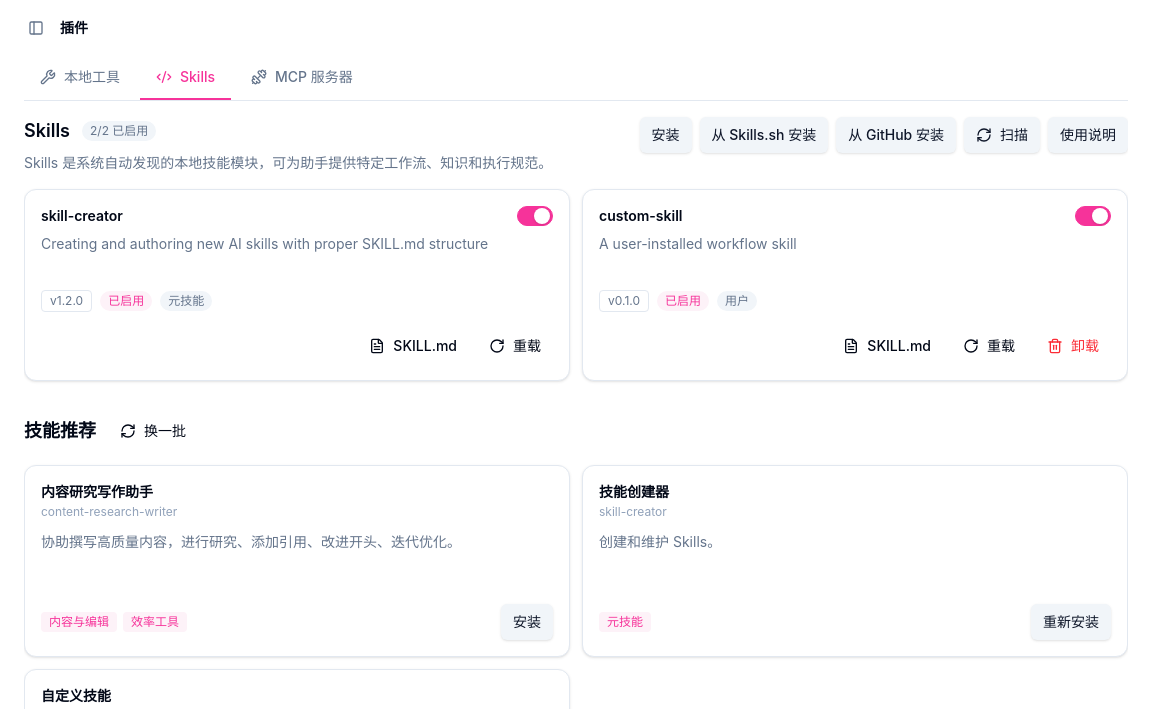
Test: PluginsPage › keeps skill and MCP actions in the section header instead of the page header
Expected: the heading "skill-creator" is shown, [41, 207, 123, 224]
Expected: the number of buttons "安装" is 1, [640, 117, 692, 153]
Click the tab "MCP 服务器": point(302, 78) [235, 56, 369, 100]
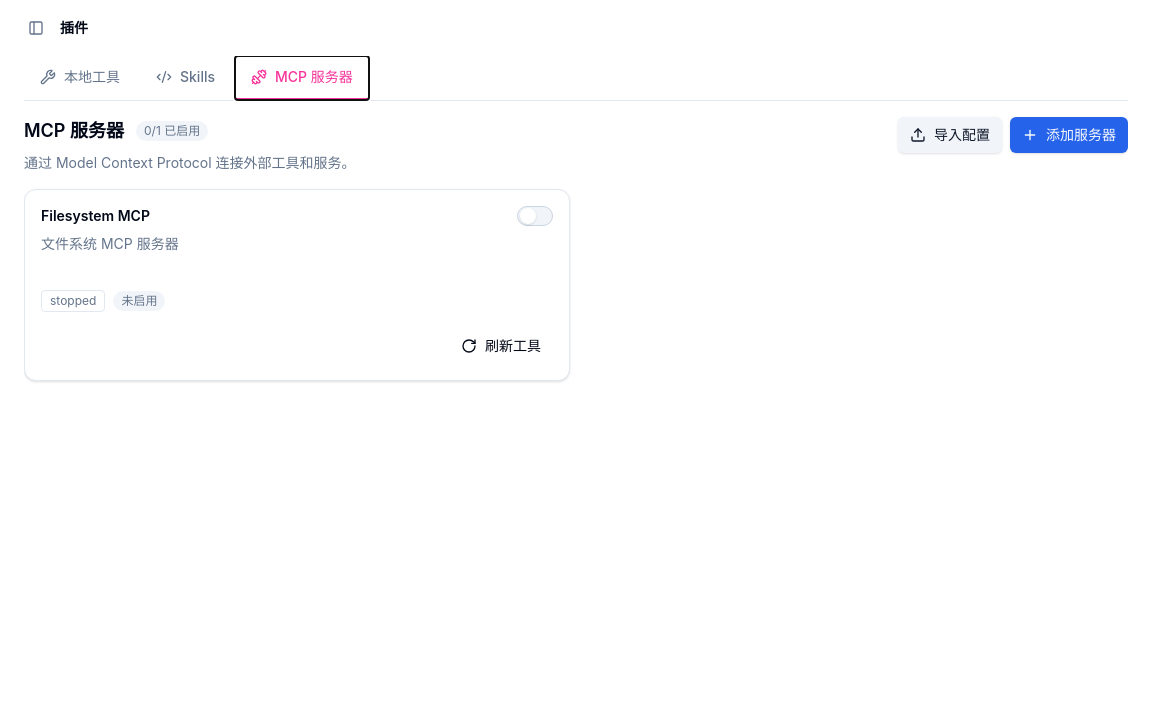
Result: the heading "MCP 服务器" is shown at [24, 117, 124, 145]
Result: the number of buttons "导入配置" is 1 at [898, 117, 1002, 153]
Result: the number of buttons "添加服务器" is 1 at [1010, 117, 1128, 153]
